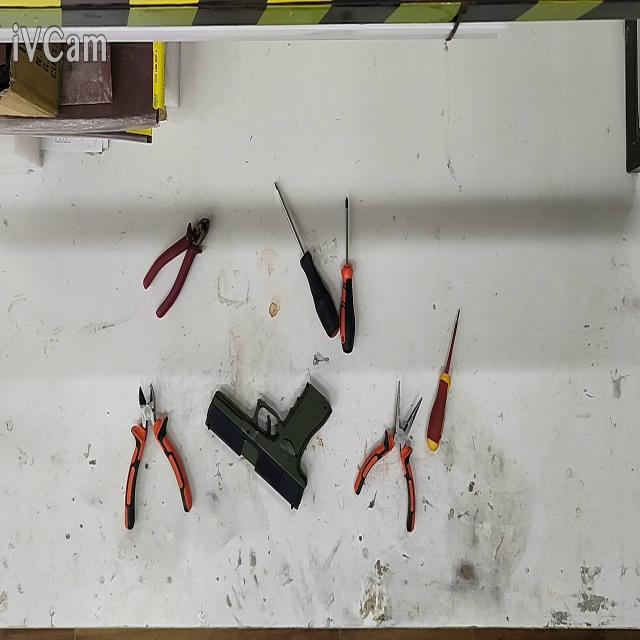Screwdriver: (274, 182, 340, 338), (426, 309, 460, 451), (340, 197, 355, 354)
